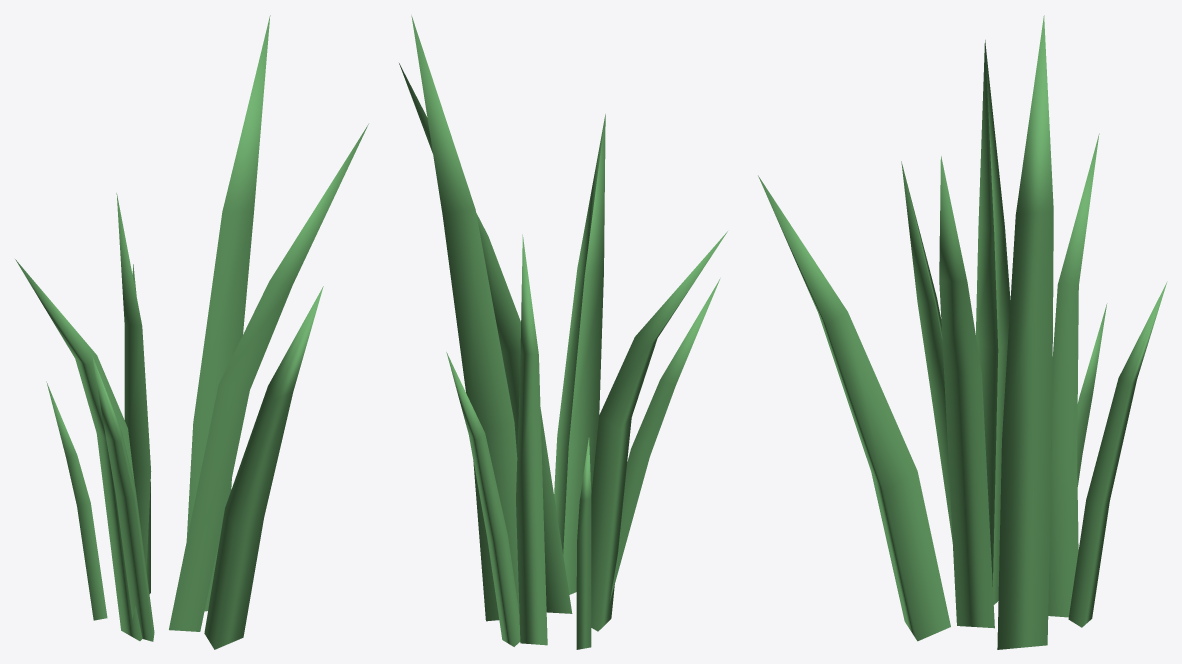
File: Grass_1.fbx
3 renders of one model, left to right at view 1: azimuth 30°, elevation 25°; view 2: azimuth 150°, elevation 25°; view 3: azimuth 270°, elevation 25°, orthographic. The views are drawn at different scales.
Visible parts, largest first — view 1: Grass_1; view 2: Grass_1; view 3: Grass_1.
Boxes of the visible parts, x1,y1,x2,y2 form: Grass_1: (15,15,368,649); Grass_1: (399,15,727,649); Grass_1: (758,15,1167,649).
Size of the model in its own units: 79.61 by 128 by 70.47.
